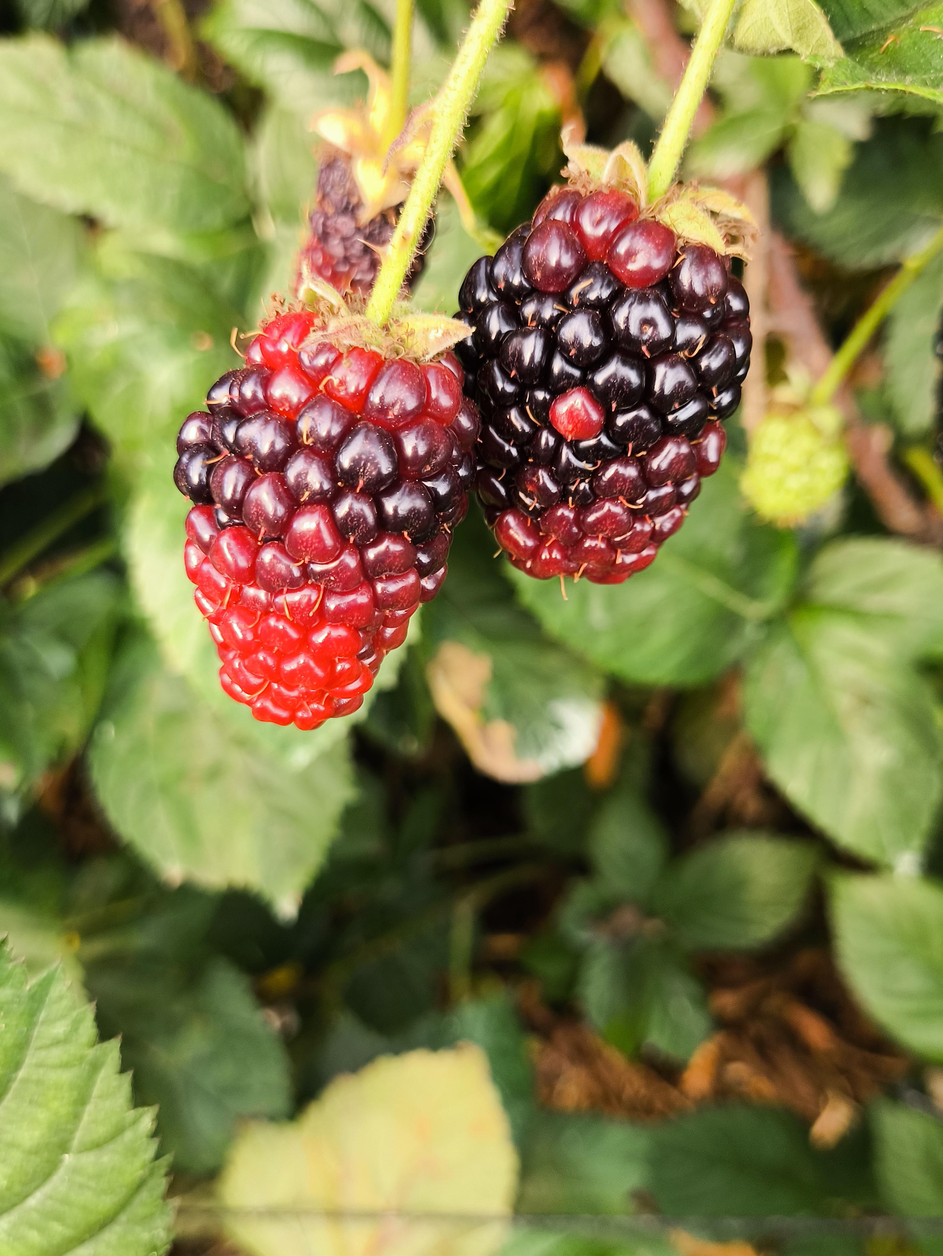marron: (460, 179, 754, 592), (189, 316, 474, 732)
